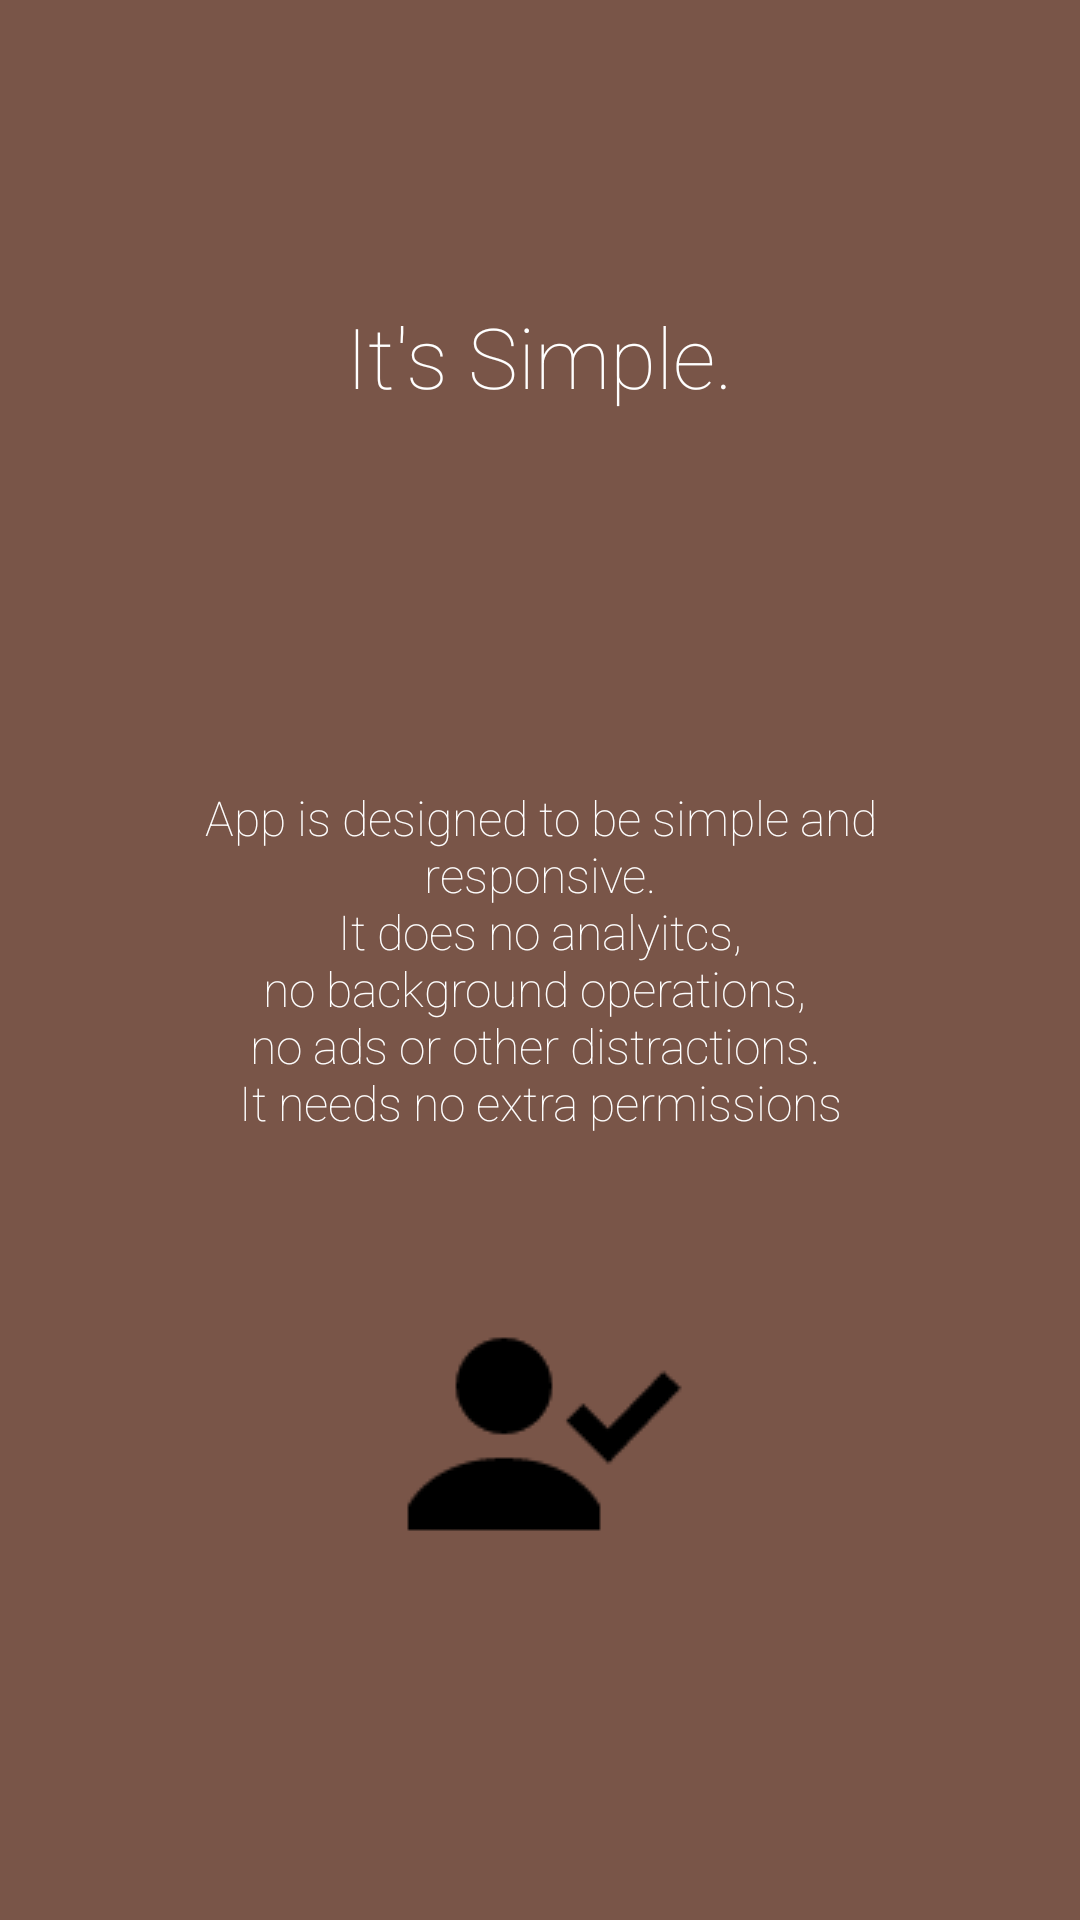

Screen size 1080px x 1920px. Icon name, then its box in pixels as (x1, y1, x2, y2):
user: (407, 1337, 681, 1531)
